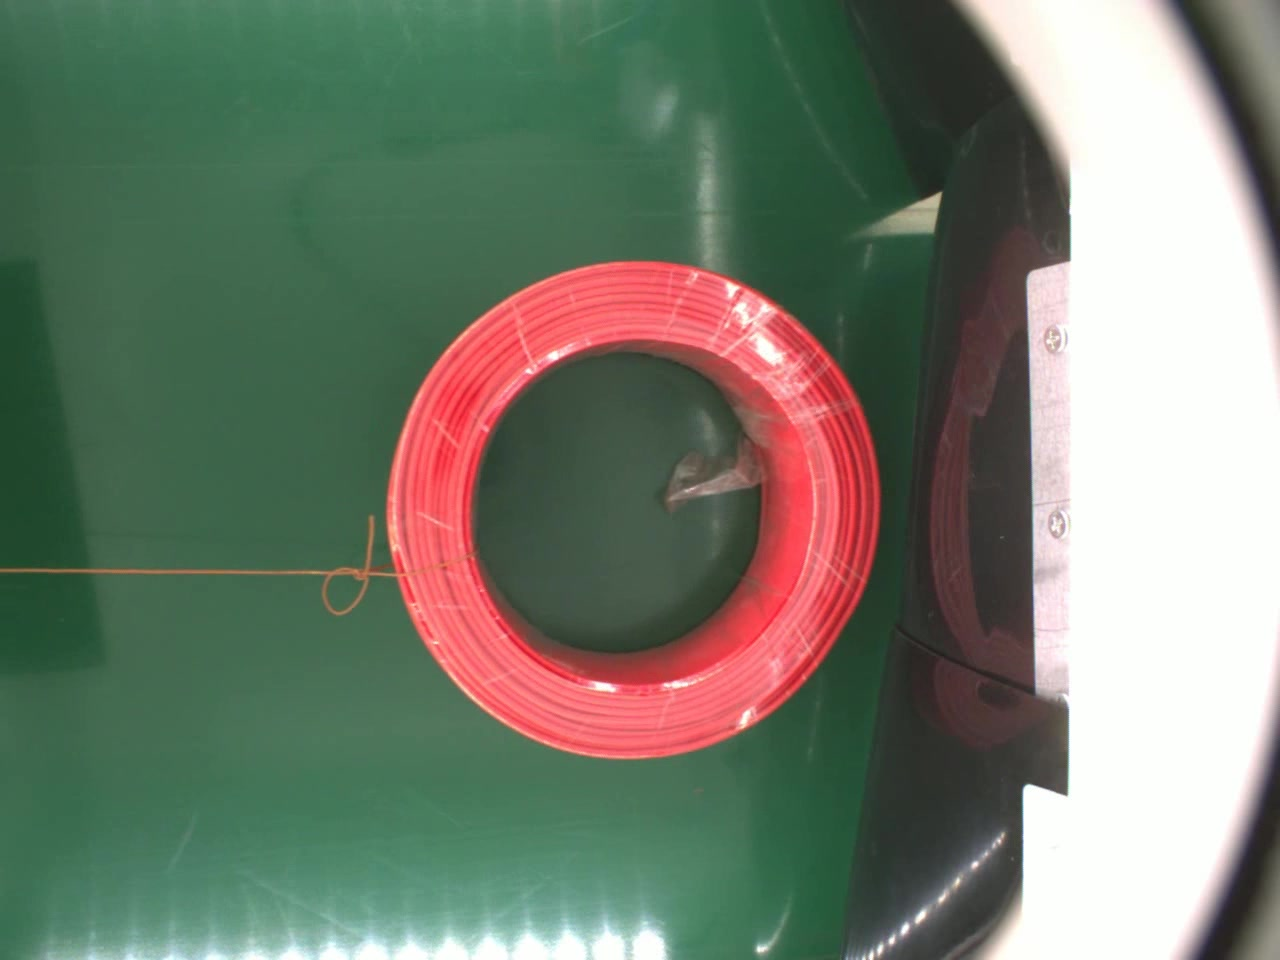red: (381, 258, 886, 760)
